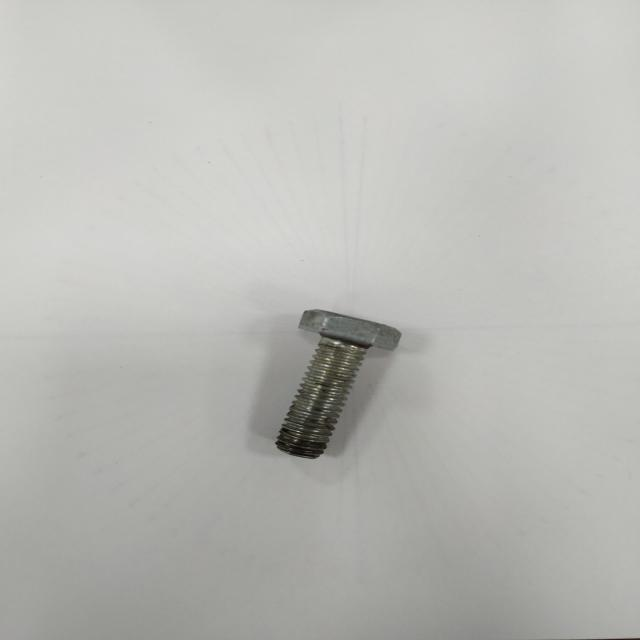Bolt: (277, 310, 400, 458)
